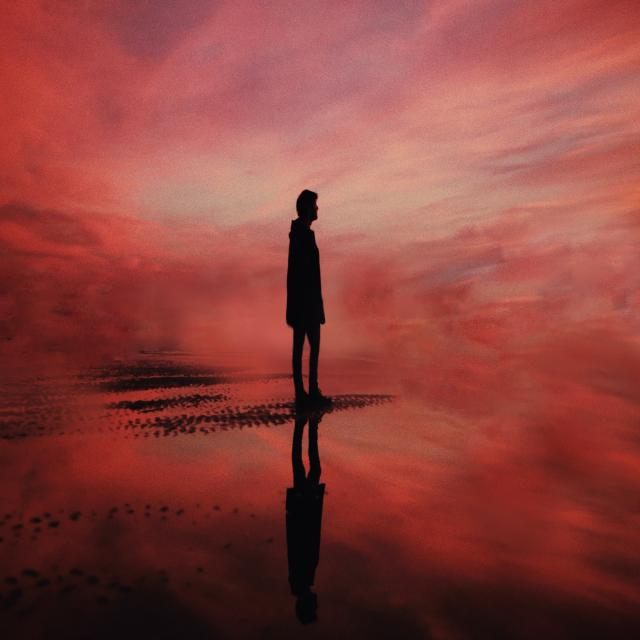standing: (283, 186, 328, 424)
